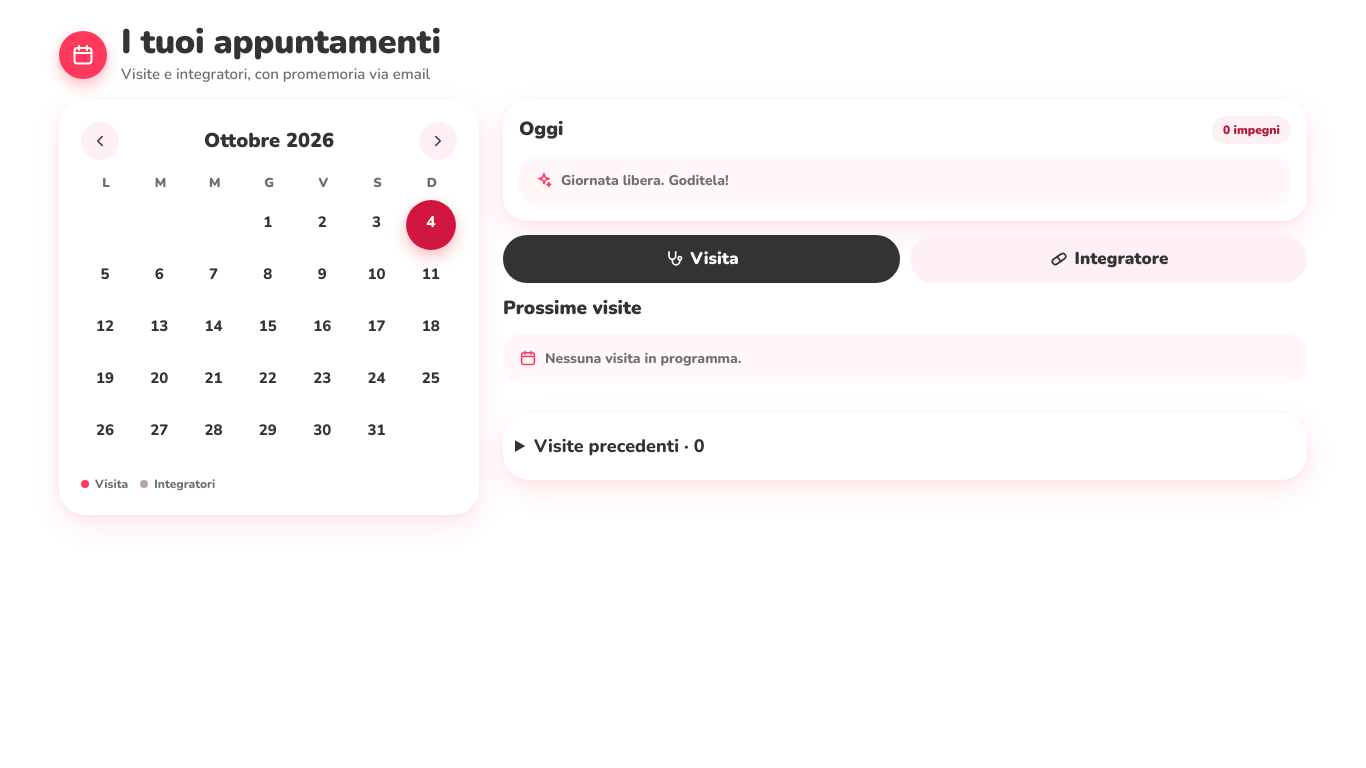
La mamma › Appuntamenti: una visita aggiunta compare nell’agenda di oggi
This screenshot has width=1366, height=768.
Expected: the heading "I tuoi appuntamenti" is shown, x1=121 y1=24 x2=441 y2=61
Click the button "Visita".
click(702, 259)  # box x1=503 y1=235 x2=900 y2=283
(page scrolled)
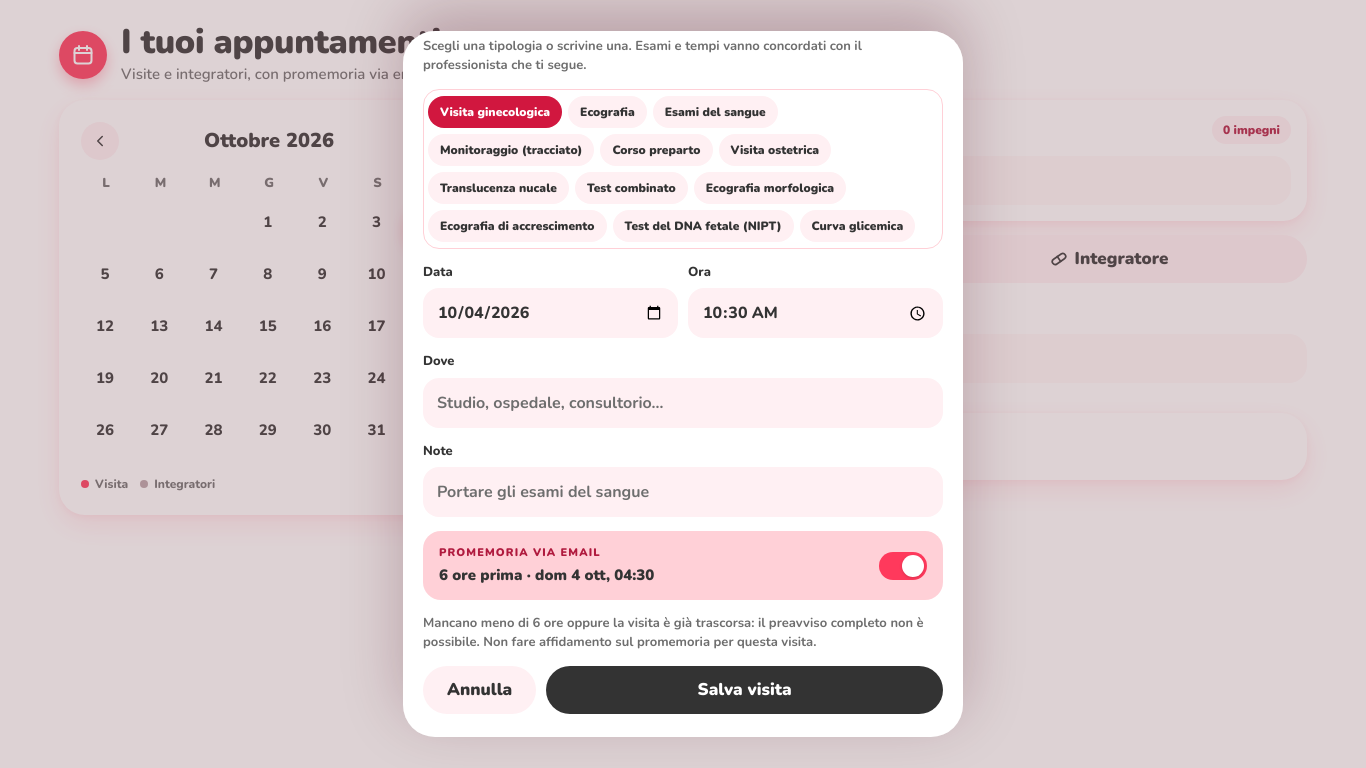
Click the button "Salva visita".
click(745, 690)  # box x1=546 y1=666 x2=943 y2=714
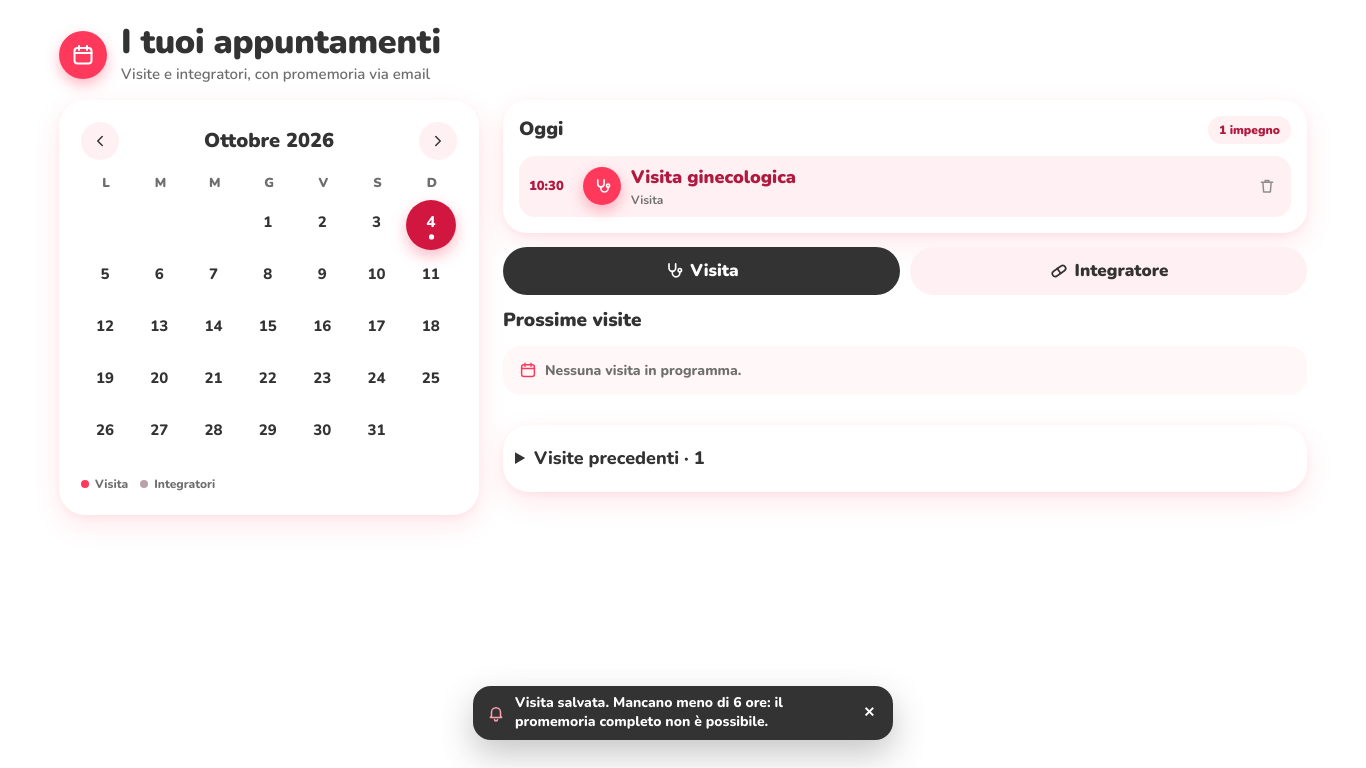
Expected: the button "Visita ginecologica" is shown, x1=631 y1=164 x2=796 y2=191
Expected: the text "1 impegno" is shown, x1=1208 y1=116 x2=1291 y2=144
